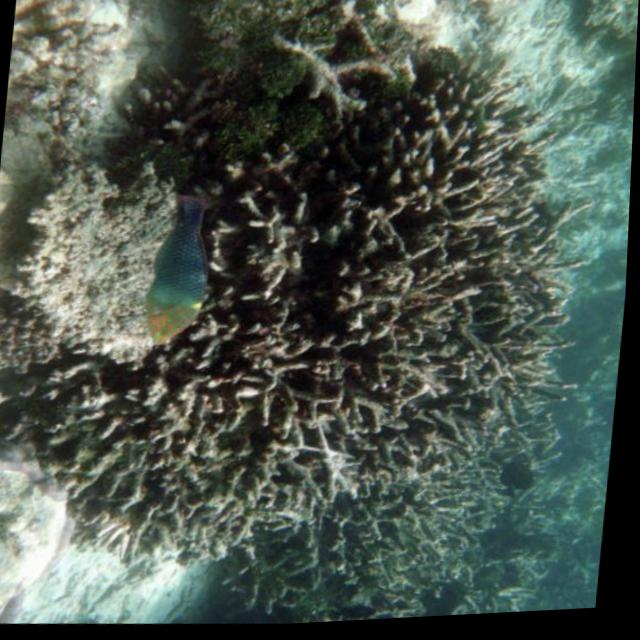Dead Coral: (16, 9, 602, 632)
